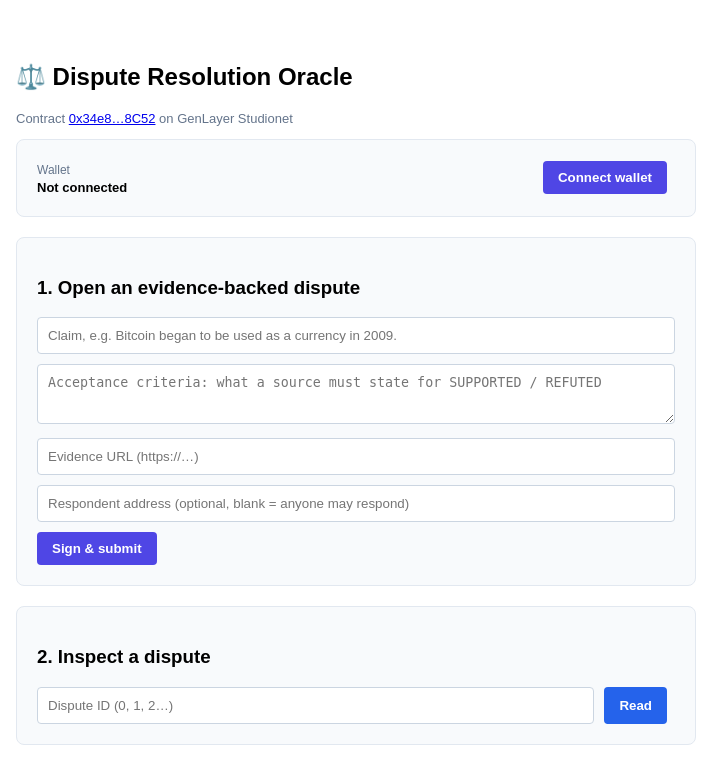
Test: App › renders a pending dispute without inventing a verdict
The width and height of the screenshot is (713, 761).
In the field labelled "Dispute ID": (316, 705) [37,687,594,724], type "0"
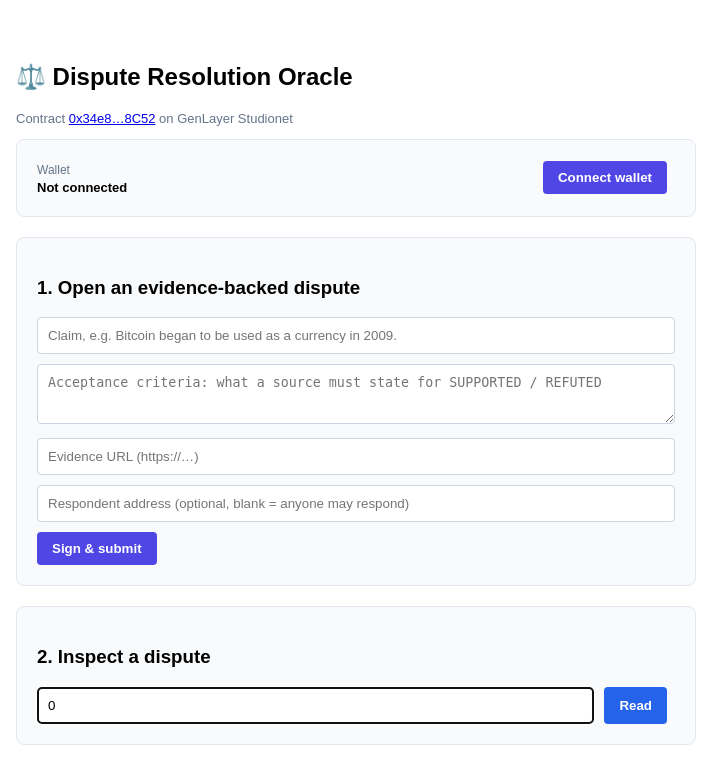
Click the button "Read": (636, 705) [604,687,667,724]
(page scrolled)
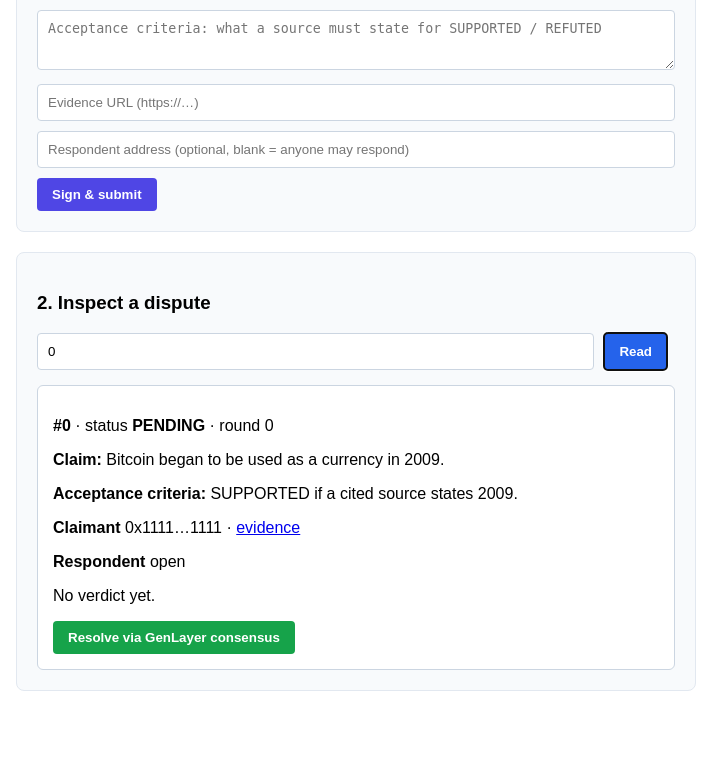
expect the text with test id "dispute-status" reads "PENDING": met, box [132,417,205,434]
expect the text "No verdict yet." is shown: met, box [53,587,155,604]
